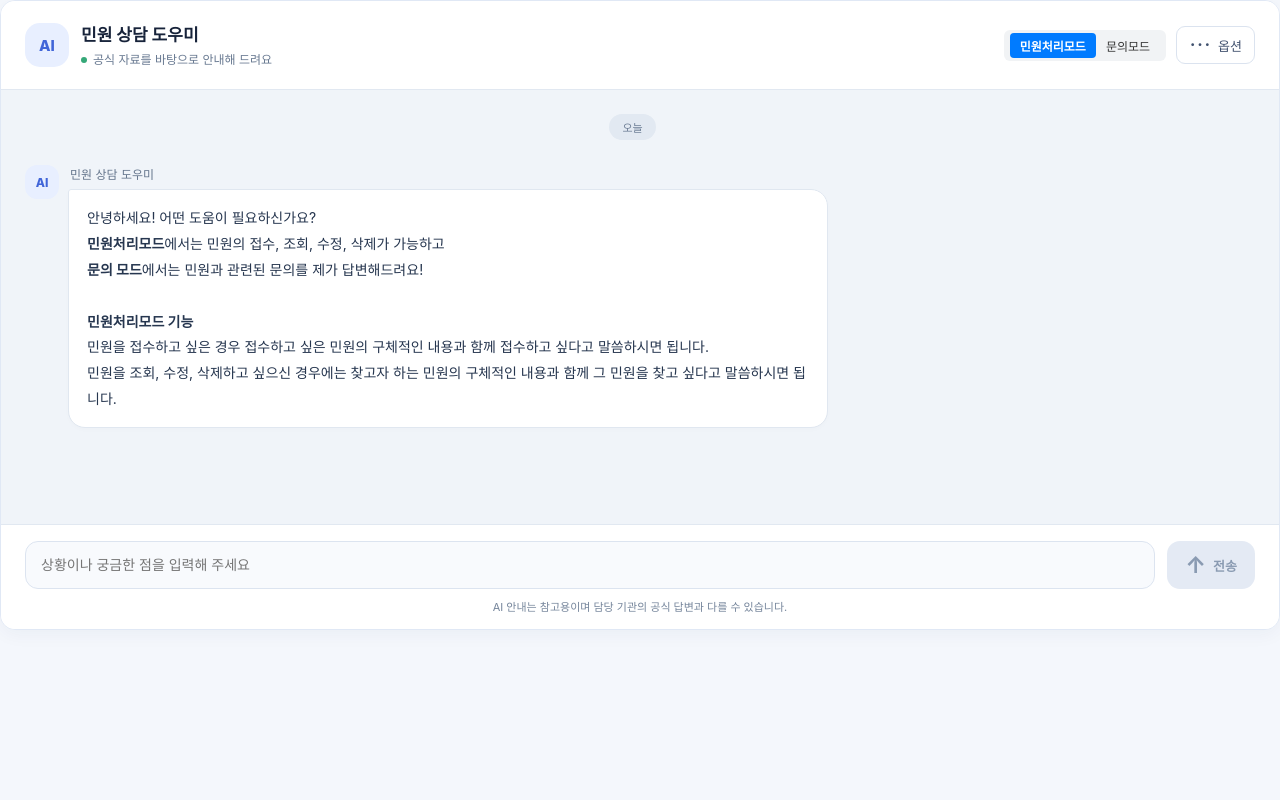
Test: doc-main의 기존 AI 채팅 계약 유지 › opens the citizen tool from the current code=1 reply without submitting a complaint
In the text box named "메시지": (590, 565) [25, 541, 1155, 589], type "민원을 작성하고 싶어요."
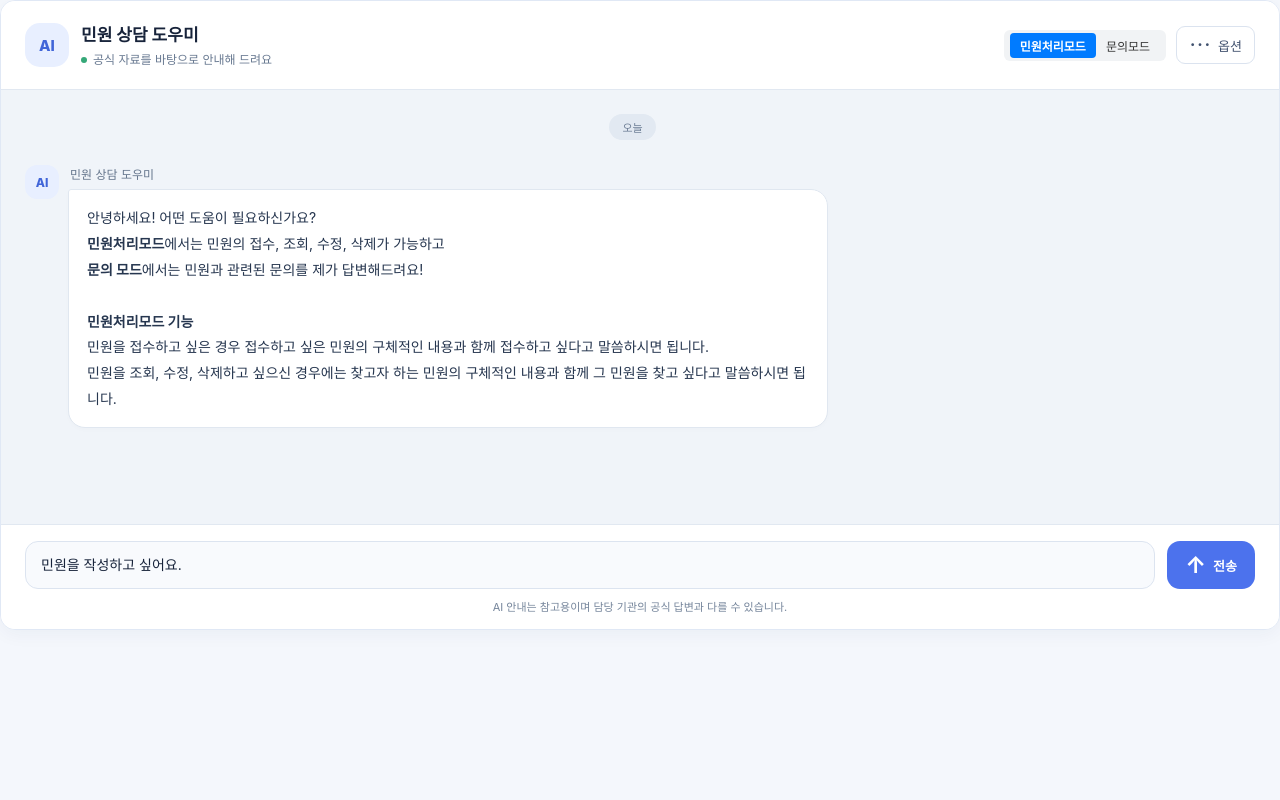
Click the button "↑ 전송": (1211, 565) [1167, 541, 1255, 589]
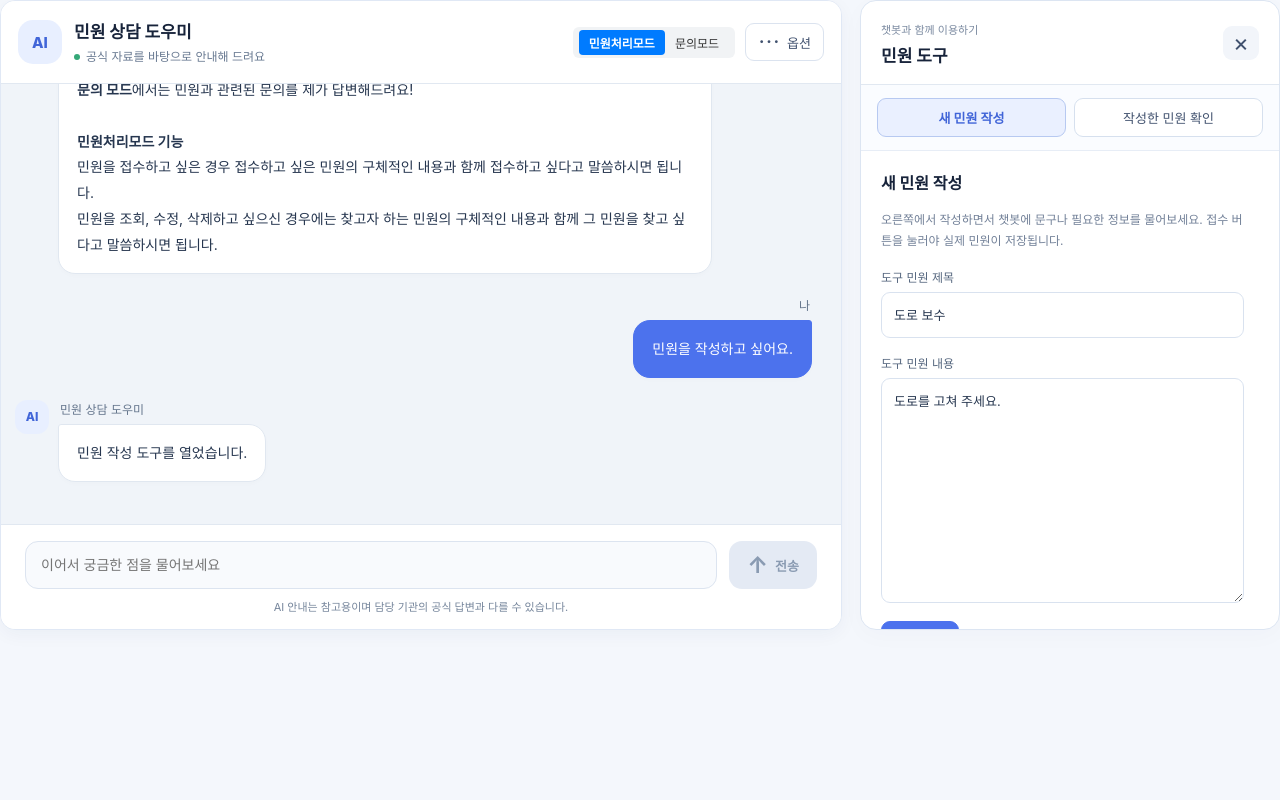
Result: the element "민원 도구" is shown at [860, 0, 1279, 630]
Result: the text "민원 작성 도구를 열었습니다." is shown at [77, 440, 247, 466]
